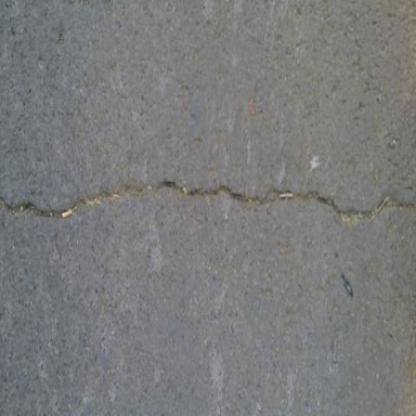Cracks: (0, 174, 415, 231)
